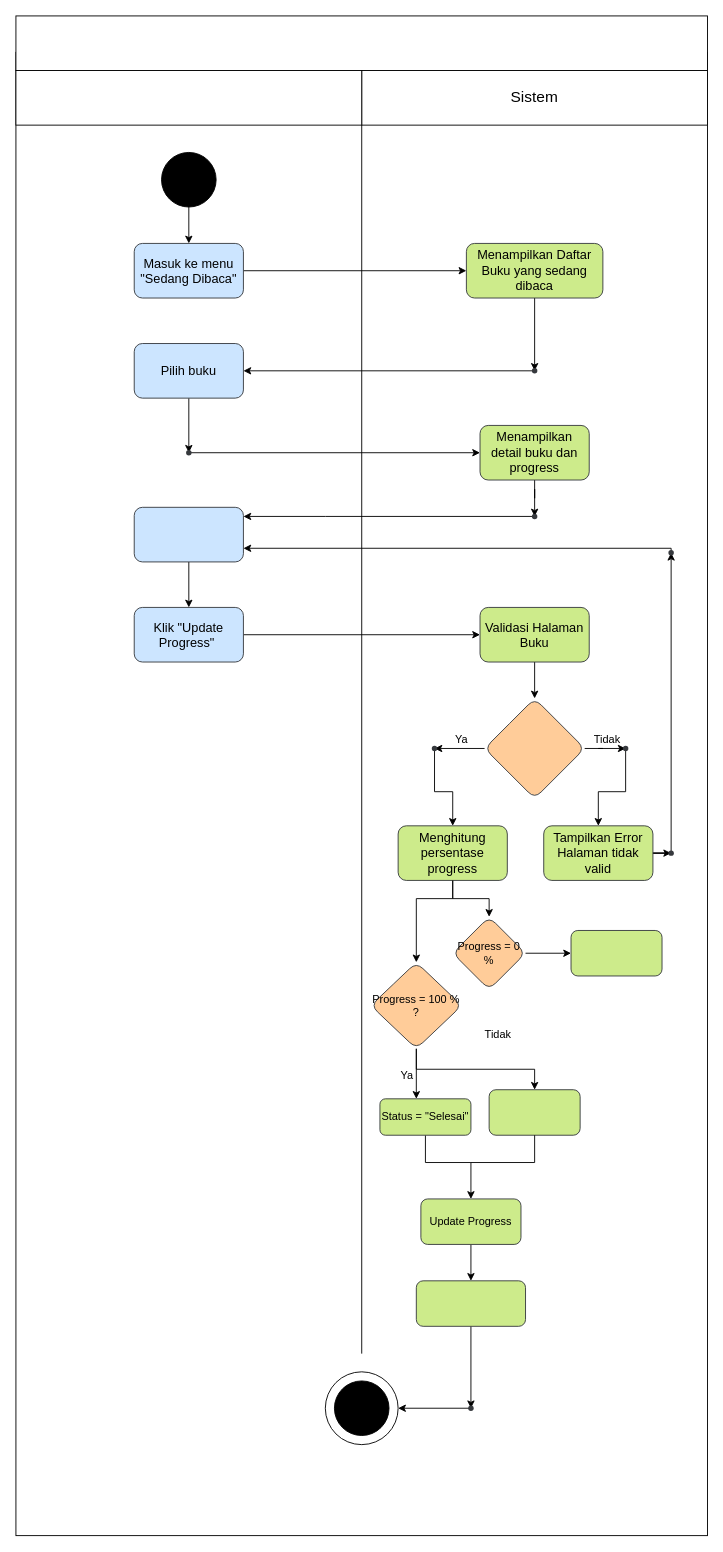
The diagram is 723 pixels wide and 1552 high, and some of its shapes have lost their labels. Here are the shapes that lost their labels. From the top down, the box of each, then its label:
(15, 15, 708, 71): 6. ACTIVITY DIAGRAM UPDATE PROGRESS MEMBACA BUKU
(15, 70, 362, 125): User
(133, 506, 243, 562): Input halaman terakhir yang sudah dibaca
(484, 698, 585, 799): Halaman Valid ?
(570, 930, 662, 976): Status = "Belum Dibaca"
(488, 1089, 580, 1135): Status = "Sedang Dibaca"
(415, 1280, 526, 1326): Buku masuk ke Riwayat Membaca
